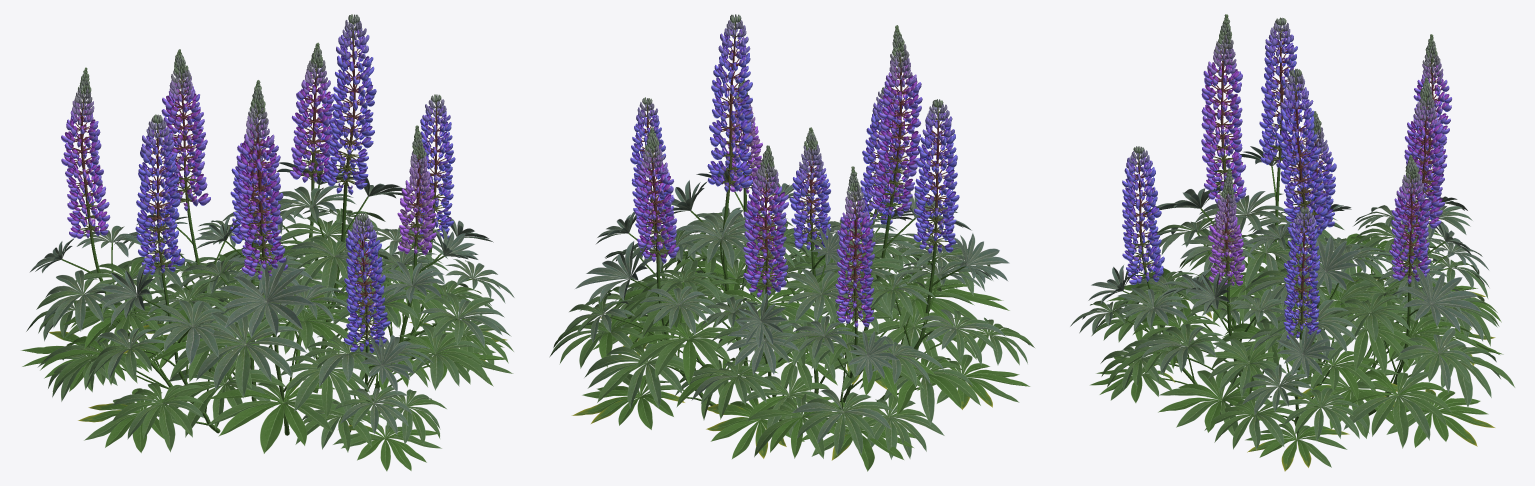
The model's file is realistic_hd_large-leaved_lupine_318.glb.
The picture shows the model from 3 angles, left to right: view 1: azimuth 30°, elevation 25°; view 2: azimuth 150°, elevation 25°; view 3: azimuth 270°, elevation 25°; orthographic projection. The views are drawn at different scales.
Visible parts, largest first — view 1: Lupinus_polyphyllus_HD_Lupinus leaflet 03_0, Lupinus_polyphyllus_HD_Lupinus leaflet 02_0, Lupinus_polyphyllus_HD_Lupinus leaflet 04_0, Lupinus_polyphyllus_HD_Lupinus leaflet 05_0, Lupinus_polyphyllus_HD_Lupinus bloom stalk 01_0, Lupinus_polyphyllus_HD_Lupinus leaflet 01_0, Lupinus_polyphyllus_HD_Lupin pet D 01 blue_0, Lupinus_polyphyllus_HD_Lupin pet D 01_0, Lupinus_polyphyllus_HD_Lupin pet U 01 blue_0, Lupinus_polyphyllus_HD_Lupin pet U 01_0, Lupinus_polyphyllus_HD_Lupinus stalk 01_0, Lupinus_polyphyllus_HD_Lupinus leaf stalk 01_0 (+10 smaller); view 2: Lupinus_polyphyllus_HD_Lupinus leaflet 03_0, Lupinus_polyphyllus_HD_Lupinus leaflet 02_0, Lupinus_polyphyllus_HD_Lupinus leaflet 04_0, Lupinus_polyphyllus_HD_Lupinus leaflet 01_0, Lupinus_polyphyllus_HD_Lupinus leaflet 05_0, Lupinus_polyphyllus_HD_Lupin pet D 01_0, Lupinus_polyphyllus_HD_Lupinus bloom stalk 01_0, Lupinus_polyphyllus_HD_Lupin pet D 01 blue_0, Lupinus_polyphyllus_HD_Lupin pet U 01_0, Lupinus_polyphyllus_HD_Lupin pet U 01 blue_0, Lupinus_polyphyllus_HD_Lupinus leaflet 01 y1_0, Lupinus_polyphyllus_HD_Lupinus leaf stalk 01_0 (+10 smaller); view 3: Lupinus_polyphyllus_HD_Lupinus leaflet 03_0, Lupinus_polyphyllus_HD_Lupinus leaflet 02_0, Lupinus_polyphyllus_HD_Lupinus leaflet 04_0, Lupinus_polyphyllus_HD_Lupinus leaflet 05_0, Lupinus_polyphyllus_HD_Lupinus leaflet 01_0, Lupinus_polyphyllus_HD_Lupin pet D 01 blue_0, Lupinus_polyphyllus_HD_Lupinus bloom stalk 01_0, Lupinus_polyphyllus_HD_Lupin pet U 01 blue_0, Lupinus_polyphyllus_HD_Lupin pet D 01_0, Lupinus_polyphyllus_HD_Lupin pet U 01_0, Lupinus_polyphyllus_HD_Lupinus leaflet 01 y1_0, Lupinus_polyphyllus_HD_Lupinus leaf stalk 01_0 (+11 smaller).
Part boxes in pixels (box(x1,y1,x2,y2)): Lupinus_polyphyllus_HD_Lupinus leaflet 03_0: box(26, 208, 511, 449); Lupinus_polyphyllus_HD_Lupinus leaflet 02_0: box(52, 240, 513, 452); Lupinus_polyphyllus_HD_Lupinus leaflet 04_0: box(43, 186, 514, 435); Lupinus_polyphyllus_HD_Lupinus leaflet 05_0: box(29, 159, 493, 392); Lupinus_polyphyllus_HD_Lupinus bloom stalk 01_0: box(70, 21, 445, 364); Lupinus_polyphyllus_HD_Lupinus leaflet 01_0: box(21, 245, 506, 471); Lupinus_polyphyllus_HD_Lupin pet D 01 blue_0: box(135, 51, 455, 352); Lupinus_polyphyllus_HD_Lupin pet D 01_0: box(61, 89, 335, 280); Lupinus_polyphyllus_HD_Lupin pet U 01 blue_0: box(139, 37, 451, 347); Lupinus_polyphyllus_HD_Lupin pet U 01_0: box(64, 78, 332, 274); Lupinus_polyphyllus_HD_Lupinus stalk 01_0: box(99, 221, 428, 435); Lupinus_polyphyllus_HD_Lupinus leaf stalk 01_0: box(83, 185, 471, 438); Lupinus_polyphyllus_HD_Lupinus leaflet 03_0: box(549, 213, 1027, 459); Lupinus_polyphyllus_HD_Lupinus leaflet 02_0: box(553, 227, 1034, 458); Lupinus_polyphyllus_HD_Lupinus leaflet 04_0: box(567, 206, 1005, 443); Lupinus_polyphyllus_HD_Lupinus leaflet 01_0: box(582, 248, 1030, 471); Lupinus_polyphyllus_HD_Lupinus leaflet 05_0: box(575, 168, 1009, 382); Lupinus_polyphyllus_HD_Lupin pet D 01_0: box(634, 81, 922, 327); Lupinus_polyphyllus_HD_Lupinus bloom stalk 01_0: box(639, 22, 948, 349); Lupinus_polyphyllus_HD_Lupin pet D 01 blue_0: box(630, 50, 959, 253); Lupinus_polyphyllus_HD_Lupin pet U 01_0: box(637, 73, 918, 323); Lupinus_polyphyllus_HD_Lupin pet U 01 blue_0: box(633, 35, 955, 248); Lupinus_polyphyllus_HD_Lupinus leaflet 01 y1_0: box(571, 290, 992, 460); Lupinus_polyphyllus_HD_Lupinus leaf stalk 01_0: box(609, 186, 988, 431); Lupinus_polyphyllus_HD_Lupinus leaflet 03_0: box(1090, 209, 1500, 450); Lupinus_polyphyllus_HD_Lupinus leaflet 02_0: box(1091, 230, 1515, 467); Lupinus_polyphyllus_HD_Lupinus leaflet 04_0: box(1070, 193, 1489, 414); Lupinus_polyphyllus_HD_Lupinus leaflet 05_0: box(1088, 145, 1489, 378); Lupinus_polyphyllus_HD_Lupinus leaflet 01_0: box(1090, 233, 1503, 457); Lupinus_polyphyllus_HD_Lupin pet D 01 blue_0: box(1122, 40, 1336, 339); Lupinus_polyphyllus_HD_Lupinus bloom stalk 01_0: box(1131, 25, 1442, 340); Lupinus_polyphyllus_HD_Lupin pet U 01 blue_0: box(1124, 36, 1333, 335); Lupinus_polyphyllus_HD_Lupin pet D 01_0: box(1201, 67, 1451, 283); Lupinus_polyphyllus_HD_Lupin pet U 01_0: box(1205, 60, 1449, 279); Lupinus_polyphyllus_HD_Lupinus leaflet 01 y1_0: box(1141, 268, 1495, 471); Lupinus_polyphyllus_HD_Lupinus leaf stalk 01_0: box(1112, 166, 1452, 437).
Size of the model in its own units: 1.25 by 1.04 by 1.21.
Materials: 35 (35 with a texture image).
